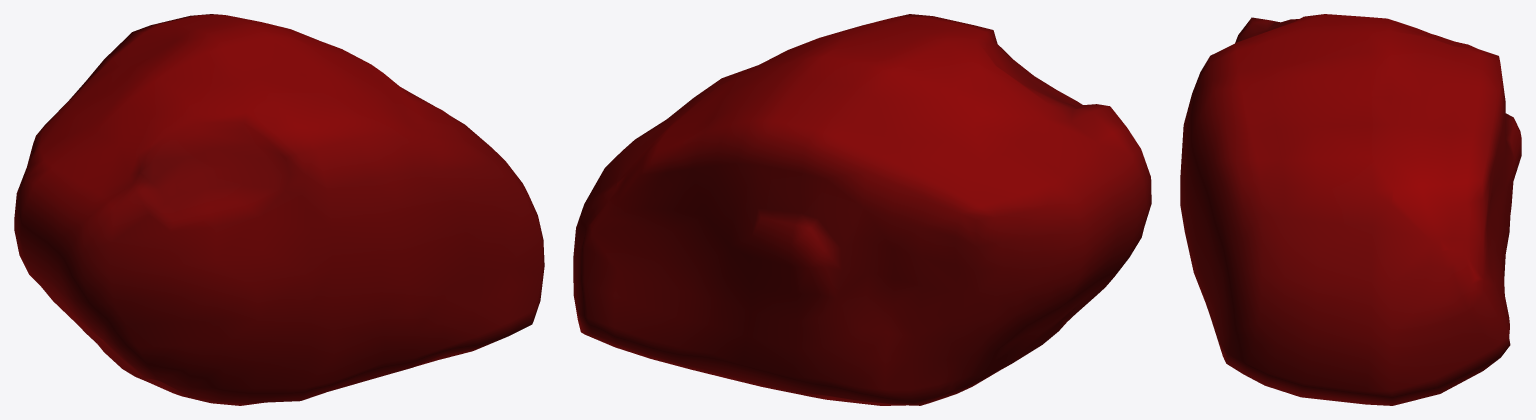
File: geology-rocks-rockmedium_v5.fbx
3 renders of one model, left to right at view 1: azimuth 30°, elevation 25°; view 2: azimuth 150°, elevation 25°; view 3: azimuth 270°, elevation 25°, orthographic. The views are drawn at different scales.
Parts seen in each view (by area): view 1: RockMedium_v5; view 2: RockMedium_v5; view 3: RockMedium_v5.
Boxes of the visible parts, x1,y1,x2,y2 form: RockMedium_v5: (14,14,544,405); RockMedium_v5: (573,14,1151,405); RockMedium_v5: (1180,14,1521,405).
Bounding box in the file's own units: 4.54 × 2.71 × 3.13.
